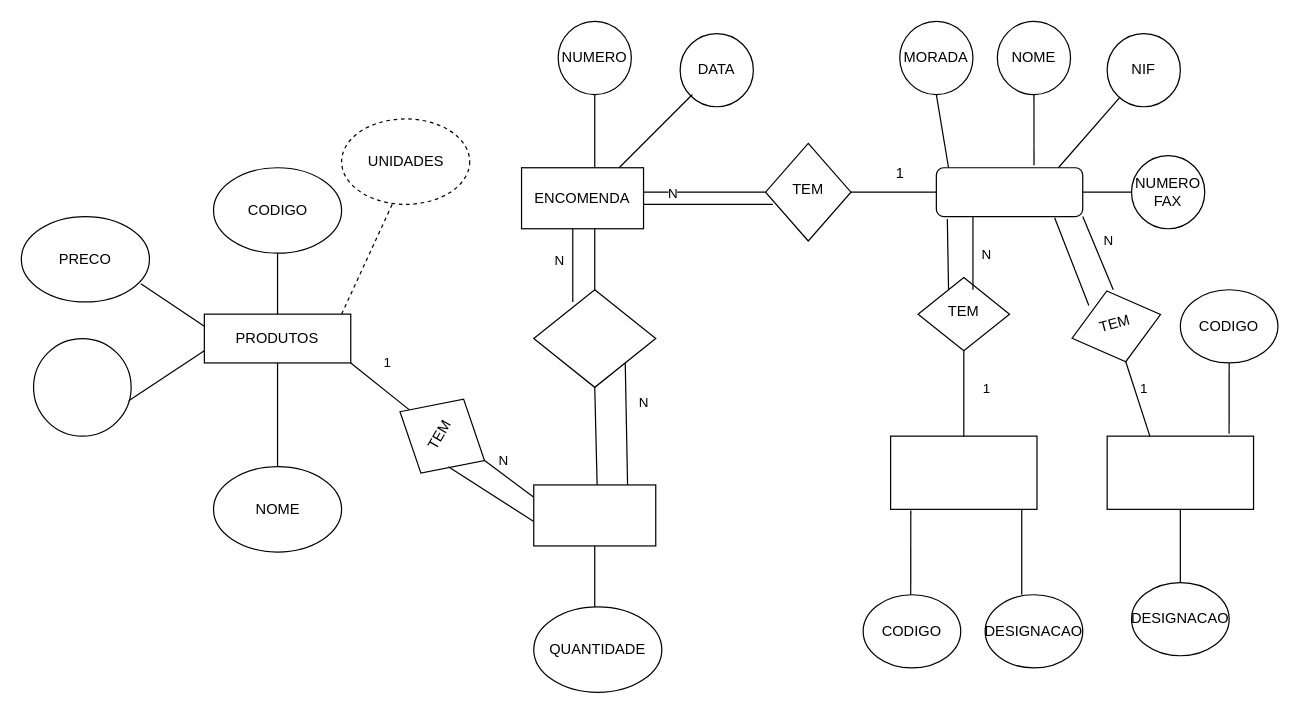
The diagram is 1299 pixels wide and 714 high, and some of its shapes have lost their labels. Here are the shapes that lost their labels. From the top down, the centre of each, then its label:
At point 1009,192: "FORNECEDOR".
At point 594,338: "POSSUI".
At point 81,386: "TAXA IVA".
At point 963,472: "TIPO FORNECEDOR".
At point 1180,472: "CONDICOES PAGAMENTO".
At point 594,515: "ITEMS".
